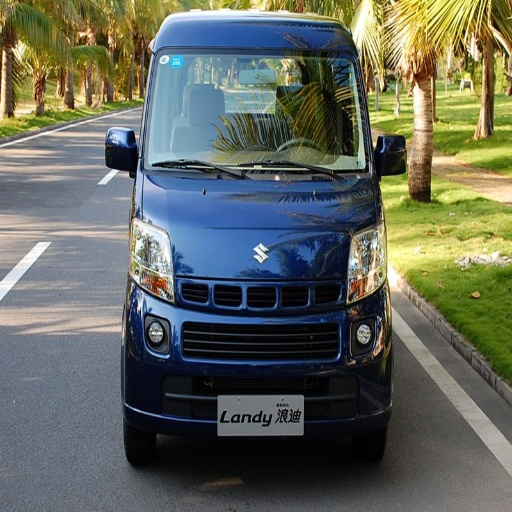front_bumper: (123, 273, 387, 445), (207, 230, 272, 262)
front_right_light: (131, 216, 175, 302)
hood: (141, 168, 376, 278)
left_mirror: (377, 135, 406, 174)
